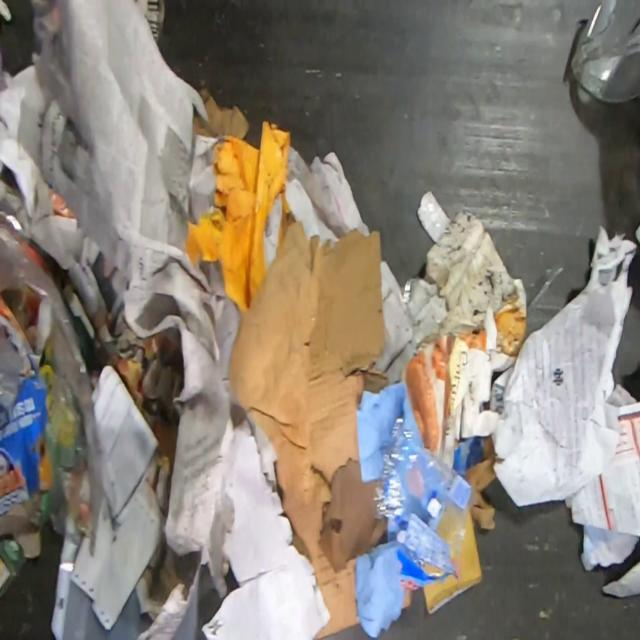cardboard: (228, 218, 388, 640), (193, 87, 250, 140), (464, 435, 496, 529)
rigid_plastic: (570, 0, 640, 104)
soft_plastic: (0, 193, 104, 558), (371, 417, 476, 589), (49, 542, 153, 639), (416, 189, 451, 244)
